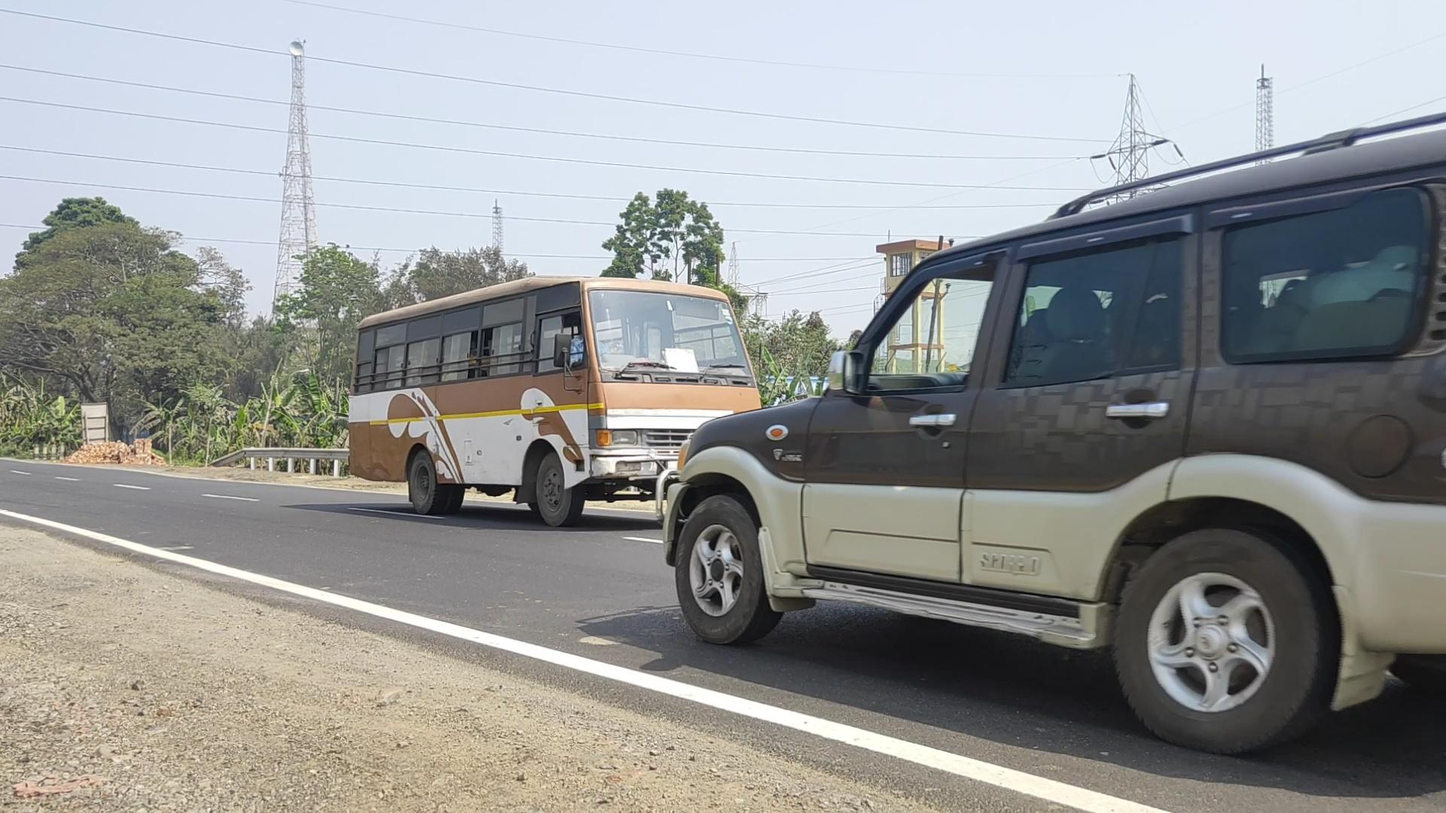Bus: (349, 276, 764, 528)
car: (654, 111, 1446, 755)
